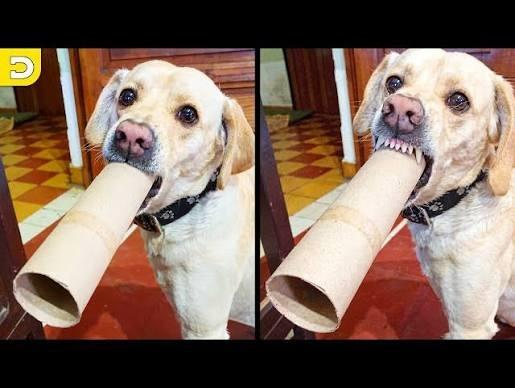adult_dog: (350, 42, 515, 338), (84, 55, 255, 339)
